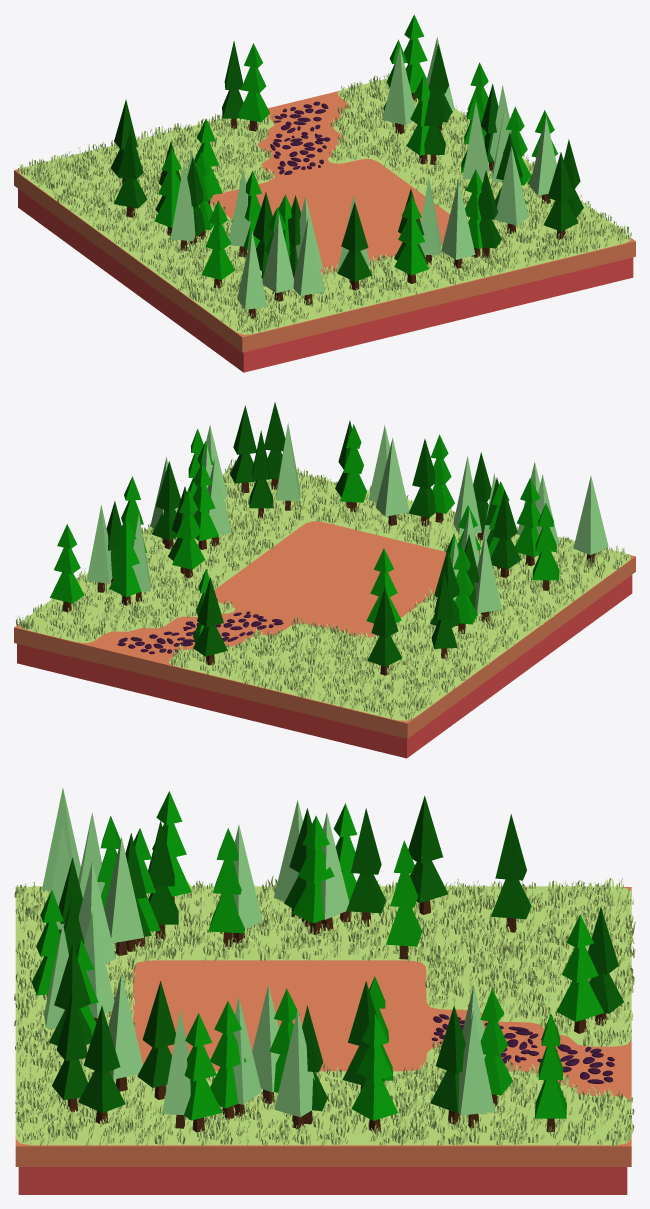
Rendered from Ground.fbx.
The picture shows the model from 3 angles, top to bottom: view 1: azimuth 30°, elevation 25°; view 2: azimuth 150°, elevation 25°; view 3: azimuth 270°, elevation 25°; orthographic projection. The views are drawn at different scales.
Parts seen in each view (by area): view 1: Cube, Cube.018, Plane.011, Cube.017|Cube.015|Dupli|19, Cube.017|Cube.014|Dupli|27, Cube.017|Cube.015|Dupli|22, Cube.017|Cube.016|Dupli|29, Cube.017|Cube.016|Dupli|11, Cube.017|Cube.015|Dupli|43, Cube.017|Cube.015|Dupli|13, Cube.017|Cube.015|Dupli|37, Cube.017|Cube.016|Dupli|44 (+30 smaller); view 2: Cube, Cube.018, Cube.017|Cube.015|Dupli|49, Cube.017|Cube.014|Dupli|, Cube.017|Cube.015|Dupli|25, Cube.017|Cube.016|Dupli|23, Cube.017|Cube.016|Dupli|47, Cube.017|Cube.014|Dupli|12, Cube.017|Cube.014|Dupli|18, Cube.017|Cube.016|Dupli|35, Plane.011, Cube.017|Cube.014|Dupli|48 (+25 smaller); view 3: Cube, Cube.018, Cube.017|Cube.014|Dupli|24, Cube.017|Cube.016|Dupli|8, Cube.017|Cube.014|Dupli|3, Cube.017|Cube.015|Dupli|4, Cube.017|Cube.015|Dupli|31, Cube.017|Cube.016|Dupli|44, Cube.017|Cube.014|Dupli|6, Cube.017|Cube.016|Dupli|47, Cube.017|Cube.016|Dupli|17, Cube.017|Cube.015|Dupli|1 (+40 smaller).
Part boxes in pixels (<box>): Cube: <box>14,90,635,372</box>; Cube.018: <box>19,78,630,334</box>; Plane.011: <box>270,101,330,174</box>; Cube.017|Cube.015|Dupli|19: <box>494,146,528,233</box>; Cube.017|Cube.014|Dupli|27: <box>394,195,428,283</box>; Cube.017|Cube.015|Dupli|22: <box>441,180,475,268</box>; Cube.017|Cube.016|Dupli|29: <box>337,202,372,290</box>; Cube.017|Cube.016|Dupli|11: <box>543,152,578,239</box>; Cube.017|Cube.015|Dupli|43: <box>262,213,293,301</box>; Cube.017|Cube.015|Dupli|13: <box>382,46,415,134</box>; Cube.017|Cube.015|Dupli|37: <box>293,217,325,305</box>; Cube.017|Cube.016|Dupli|44: <box>114,129,147,217</box>; Cube: <box>14,521,635,758</box>; Cube.018: <box>19,467,630,720</box>; Cube.017|Cube.015|Dupli|49: <box>573,476,608,563</box>; Cube.017|Cube.014|Dupli|: <box>50,524,84,612</box>; Cube.017|Cube.015|Dupli|25: <box>375,438,409,525</box>; Cube.017|Cube.016|Dupli|23: <box>193,577,227,665</box>; Cube.017|Cube.016|Dupli|47: <box>367,587,402,675</box>; Cube.017|Cube.014|Dupli|12: <box>109,517,141,605</box>; Cube.017|Cube.014|Dupli|18: <box>172,490,205,578</box>; Cube.017|Cube.016|Dupli|35: <box>490,489,521,577</box>; Plane.011: <box>117,611,283,654</box>; Cube.017|Cube.014|Dupli|48: <box>532,503,559,590</box>; Cube: <box>15,887,631,1194</box>; Cube.018: <box>15,886,631,1145</box>; Cube.017|Cube.014|Dupli|24: <box>556,914,603,1033</box>; Cube.017|Cube.016|Dupli|8: <box>78,1006,125,1124</box>; Cube.017|Cube.014|Dupli|3: <box>351,1013,398,1132</box>; Cube.017|Cube.015|Dupli|4: <box>274,1010,314,1128</box>; Cube.017|Cube.015|Dupli|31: <box>104,837,144,955</box>; Cube.017|Cube.016|Dupli|44: <box>408,795,448,914</box>; Cube.017|Cube.014|Dupli|6: <box>184,1013,221,1132</box>; Cube.017|Cube.016|Dupli|47: <box>491,814,531,932</box>; Cube.017|Cube.016|Dupli|17: <box>137,981,175,1099</box>; Cube.017|Cube.015|Dupli|1: <box>458,1009,495,1128</box>.
Size of what is drawn, in the model's own units: 332 by 331 by 98.48.
